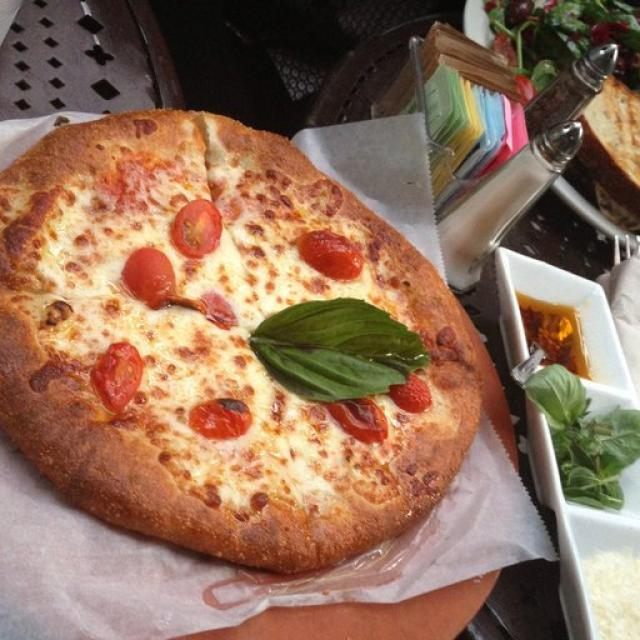Basil: (253, 293, 423, 402)
Pizza: (0, 110, 494, 578)
Tomato: (294, 224, 372, 284), (166, 193, 227, 258), (121, 248, 185, 308), (96, 336, 146, 412), (188, 388, 252, 444), (325, 398, 393, 446), (398, 371, 433, 418)
